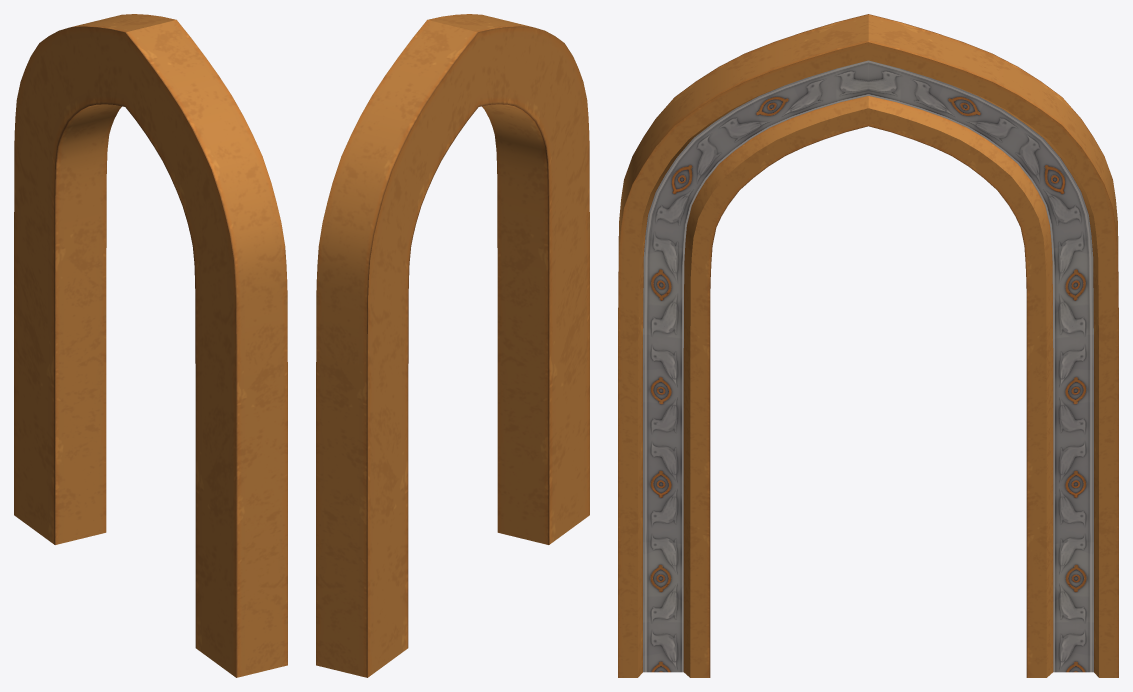
File: SM_Porte_Tribunal.fbx
3 views of the same model, side by side, from view 1: azimuth 30°, elevation 25°; view 2: azimuth 150°, elevation 25°; view 3: azimuth 270°, elevation 25° (orthographic). The views are drawn at different scales.
Visible parts, largest first — view 1: SM_Porte_Tribunal; view 2: SM_Porte_Tribunal; view 3: SM_Porte_Tribunal.
Boxes of the visible parts, box(x1,y1,x2,y2) form: SM_Porte_Tribunal: box(14, 14, 287, 677); SM_Porte_Tribunal: box(316, 14, 589, 677); SM_Porte_Tribunal: box(618, 14, 1118, 677).
Bounding box in the file's own units: 0.778 × 8.15 × 5.82.
